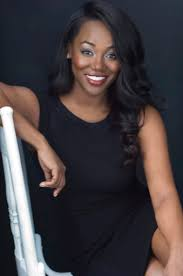black_female: (65, 16, 125, 103)
